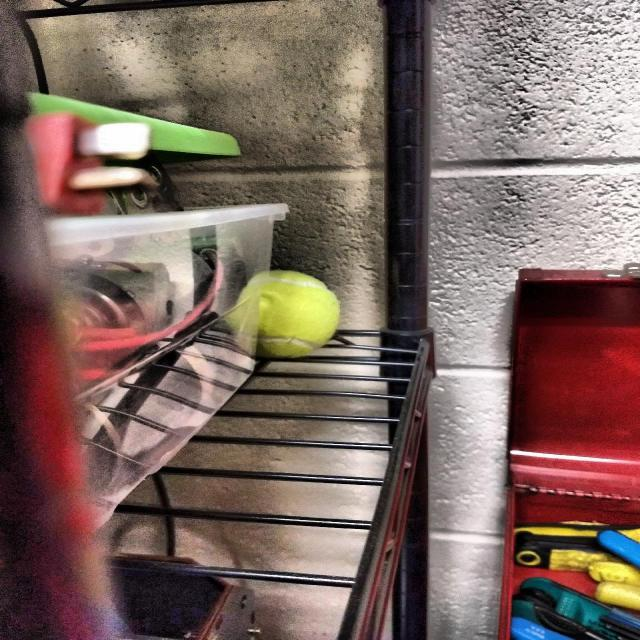tennis-ball: (248, 264, 352, 362)
